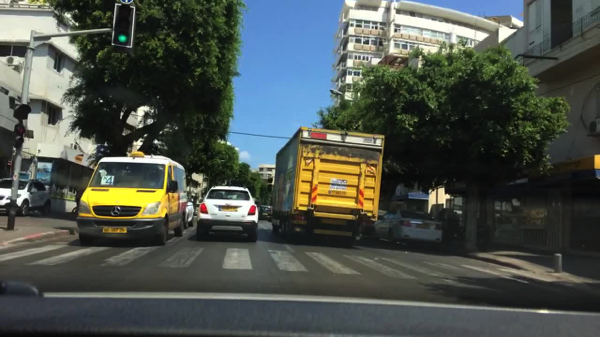bus: (21, 155, 95, 217)
car: (76, 150, 188, 246), (196, 184, 259, 242), (368, 208, 444, 248), (0, 176, 52, 216), (358, 208, 387, 237), (182, 202, 195, 227), (257, 204, 272, 221), (193, 203, 201, 216)
traffic light: (111, 2, 137, 50), (14, 125, 28, 147), (14, 103, 32, 120)
traffic sign: (19, 171, 32, 180)
truck: (271, 125, 386, 248)
